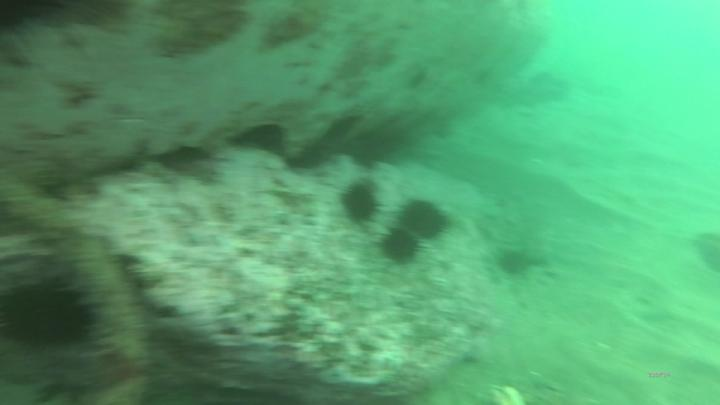echinus: (3, 283, 100, 352), (400, 197, 448, 244), (378, 225, 427, 265), (344, 181, 383, 229)
